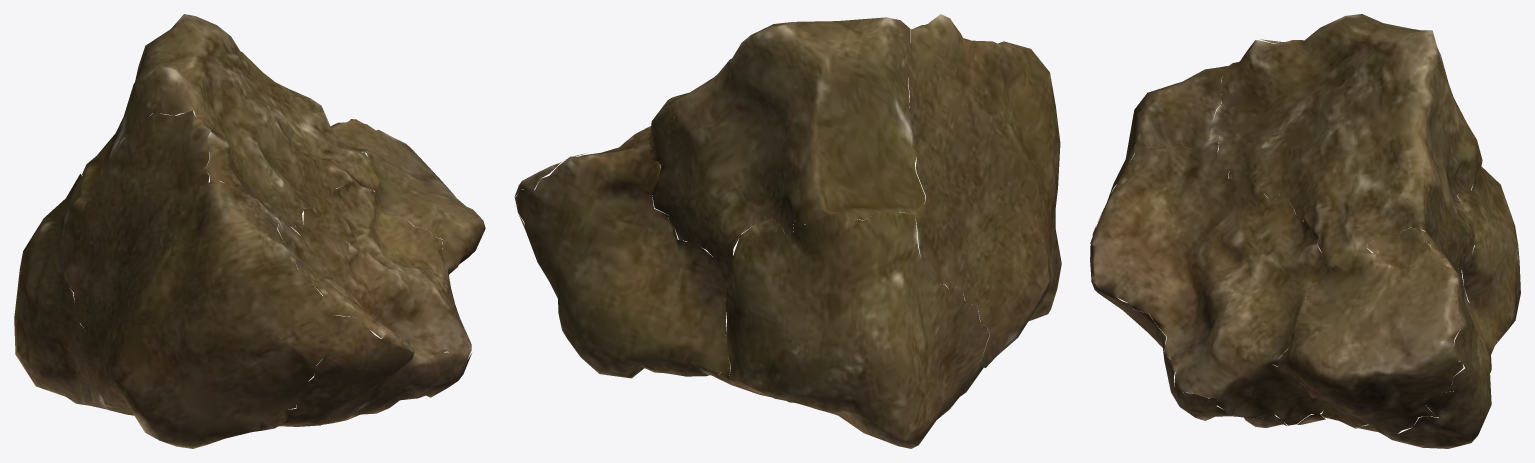
The model's file is rock-moss-set-01-rock04.glb.
3 renders of one model, left to right at view 1: azimuth 30°, elevation 25°; view 2: azimuth 150°, elevation 25°; view 3: azimuth 270°, elevation 25°, orthographic. The views are drawn at different scales.
Parts seen in each view (by area): view 1: rock_moss_set_01_rock04; view 2: rock_moss_set_01_rock04; view 3: rock_moss_set_01_rock04.
Part boxes in pixels (x1,y1,x2,y2): rock_moss_set_01_rock04: (14,14,485,448); rock_moss_set_01_rock04: (514,14,1061,448); rock_moss_set_01_rock04: (1090,14,1520,448).
Size of the model in its own units: 2.13 by 1.77 by 1.96.
1 material, 1 textured.
